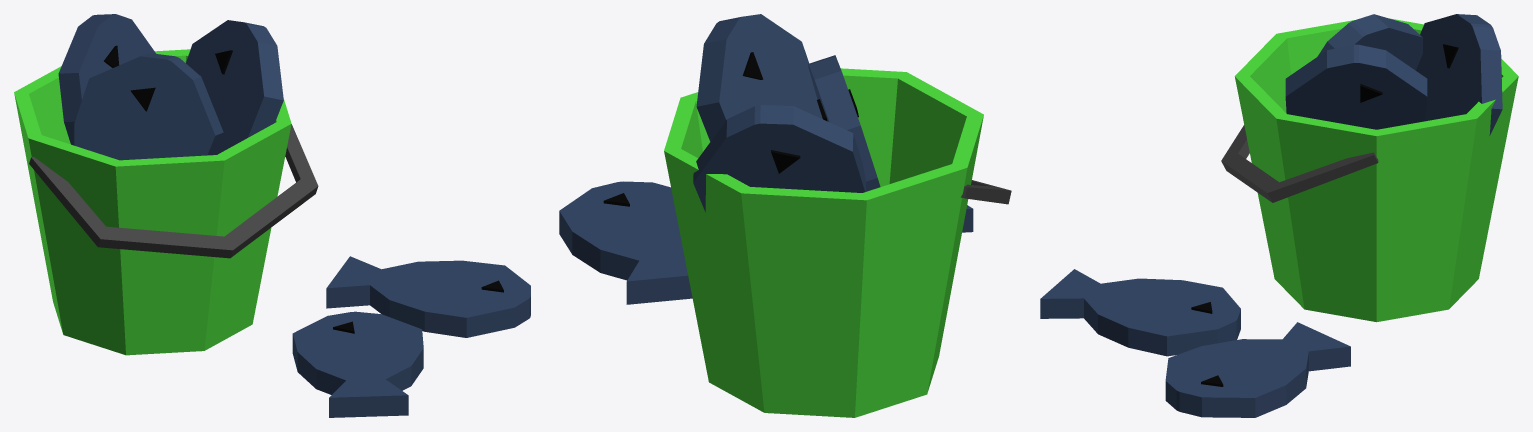
File: fishbucket.gltf
3 views of the same model, side by side, from view 1: azimuth 30°, elevation 25°; view 2: azimuth 150°, elevation 25°; view 3: azimuth 270°, elevation 25° (orthographic). The views are drawn at different scales.
Visible parts, largest first — view 1: Circle, Cube.010, Cube.011, Cube.012, Cube.008, Circle.001, Cube.009; view 2: Circle, Cube.011, Cube.009, Cube.008, Cube.010, Circle.001; view 3: Circle, Cube.012, Cube.011, Cube.008, Cube.009, Circle.001, Cube.010.
Boxes of the visible parts, left/top/right/bottom form: Circle: left=14, top=49, right=291, bottom=355; Cube.010: left=74, top=53, right=223, bottom=160; Cube.011: left=326, top=256, right=530, bottom=337; Cube.012: left=292, top=311, right=423, bottom=417; Cube.008: left=186, top=20, right=283, bottom=154; Circle.001: left=29, top=124, right=318, bottom=258; Cube.009: left=58, top=14, right=156, bottom=145; Circle: left=664, top=68, right=983, bottom=417; Cube.011: left=559, top=181, right=692, bottom=304; Cube.009: left=693, top=105, right=865, bottom=212; Cube.008: left=696, top=14, right=822, bottom=141; Cube.010: left=808, top=55, right=880, bottom=191; Circle.001: left=961, top=180, right=1011, bottom=204; Circle: left=1234, top=18, right=1518, bottom=322; Cube.012: left=1040, top=269, right=1240, bottom=356; Cube.011: left=1165, top=322, right=1350, bottom=417; Cube.008: left=1285, top=44, right=1427, bottom=129; Cube.009: left=1416, top=14, right=1502, bottom=135; Circle.001: left=1221, top=125, right=1378, bottom=202; Cube.010: left=1317, top=14, right=1422, bottom=70.
Size of the model in its own units: 0.9493 by 0.6076 by 0.9582.
